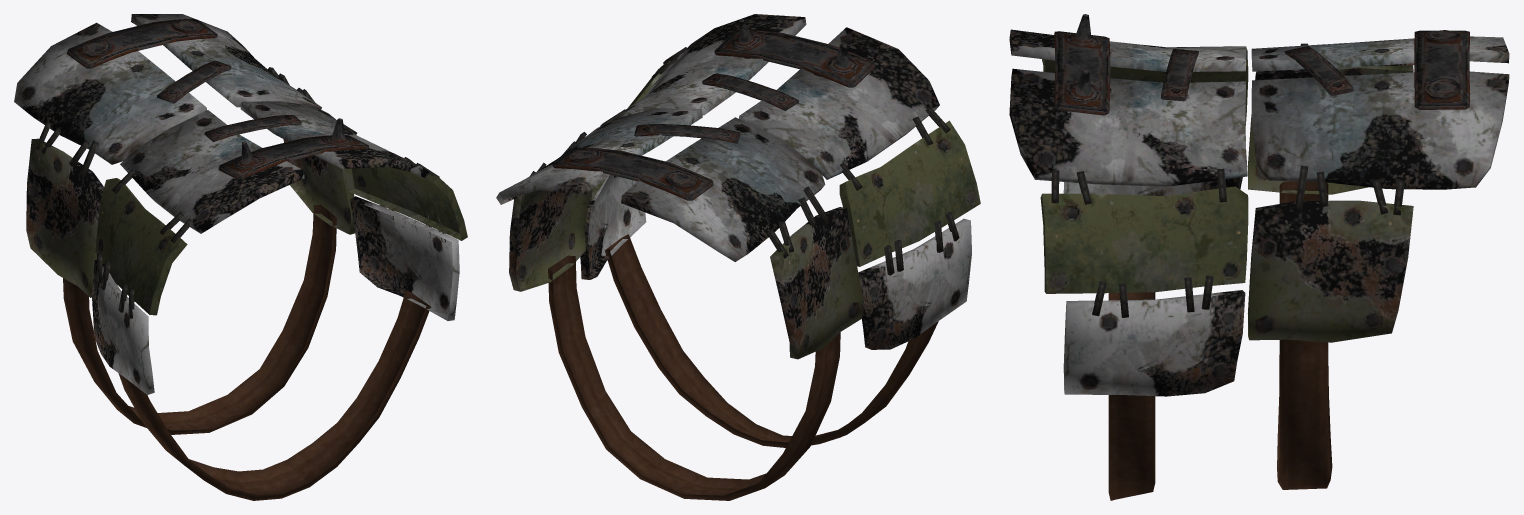
The model's file is DogCraftArmor.fbx.
3 renders of one model, left to right at view 1: azimuth 30°, elevation 25°; view 2: azimuth 150°, elevation 25°; view 3: azimuth 270°, elevation 25°, orthographic. The views are drawn at different scales.
Visible parts, largest first — view 1: DogCraftArmor; view 2: DogCraftArmor; view 3: DogCraftArmor.
Part boxes in pixels (x1,y1,x2,y2): DogCraftArmor: (14,14,467,500); DogCraftArmor: (496,14,980,500); DogCraftArmor: (1009,14,1509,500).
Size of the model in its own units: 0.538 by 0.6068 by 0.6144.
Materials: 1 (1 with a texture image).
